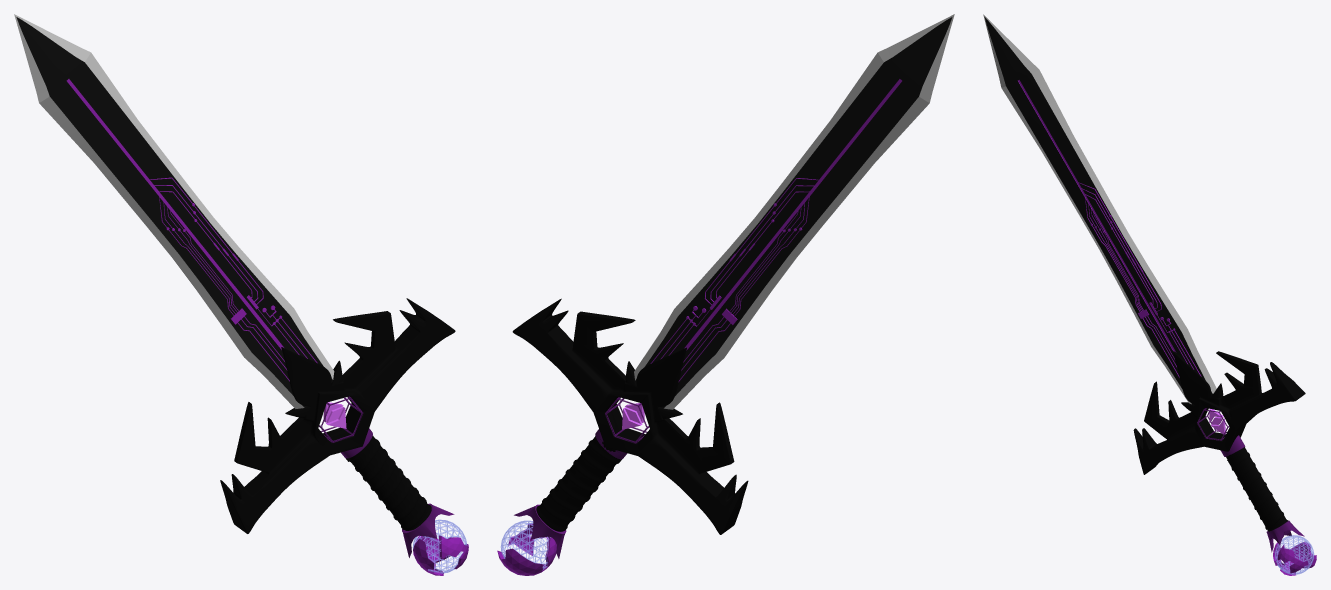
Rendered from 022_espada.glb.
3 renders of one model, left to right at view 1: azimuth 30°, elevation 25°; view 2: azimuth 150°, elevation 25°; view 3: azimuth 330°, elevation 25°, orthographic. The views are drawn at different scales.
Visible parts, largest first — view 1: hoja, guardamano_1, hilo, circuitos, Icosphere, Icosphere.002, aro_"; view 2: hoja, guardamano_1, hilo, circuitos, Icosphere, Icosphere.002, aro_"; view 3: hoja, guardamano_1, hilo, circuitos, Icosphere, Icosphere.002.
Boxes of the visible parts, box(x1,y1,x2,y2) form: hoja: box(14, 14, 334, 408); guardamano_1: box(220, 298, 455, 533); hilo: box(345, 435, 431, 530); circuitos: box(150, 177, 317, 381); Icosphere: box(413, 535, 468, 575); Icosphere.002: box(412, 519, 467, 573); aro_": box(402, 503, 454, 557); hoja: box(634, 14, 954, 409); guardamano_1: box(512, 298, 748, 534); hilo: box(536, 436, 625, 531); circuitos: box(650, 178, 818, 382); Icosphere: box(497, 523, 556, 575); Icosphere.002: box(500, 520, 550, 569); aro_": box(514, 504, 566, 558); hoja: box(983, 14, 1216, 404); guardamano_1: box(1133, 351, 1305, 474); hilo: box(1226, 447, 1287, 531); circuitos: box(1078, 182, 1201, 377); Icosphere: box(1273, 541, 1316, 575); Icosphere.002: box(1275, 535, 1314, 574).
Size of the model in its own units: 0.5068 by 0.7127 by 0.0566.
